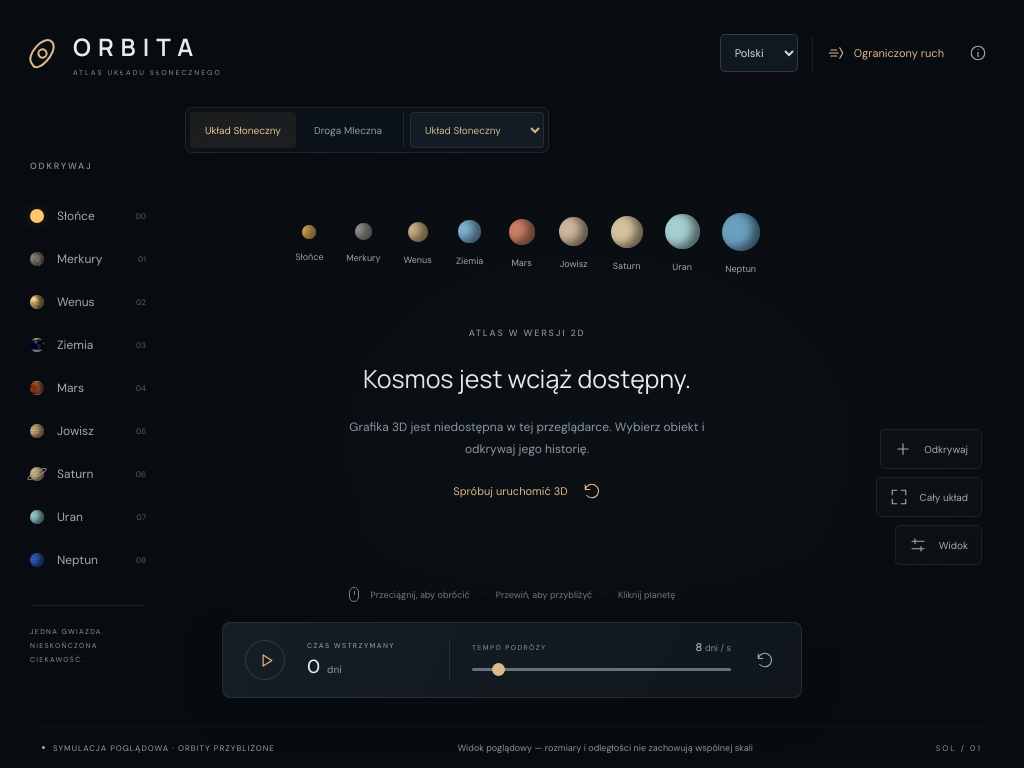
accessible 2D atlas › starts with reduced motion paused but permits an explicit resume and resets consistently
The width and height of the screenshot is (1024, 768).
Click the button named "Wznów symulację" at (265, 660), box [245,640,285,680]
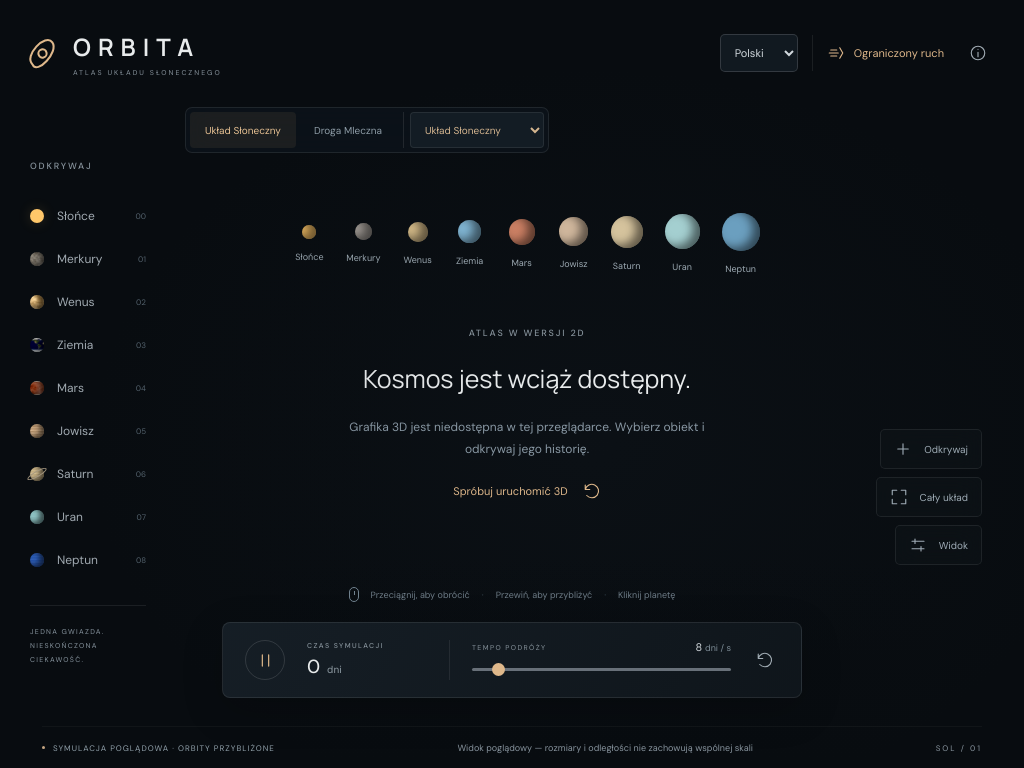
Set the slider named "Szybkość symulacji" to "31" at (555, 669), box [472,658,731,680]
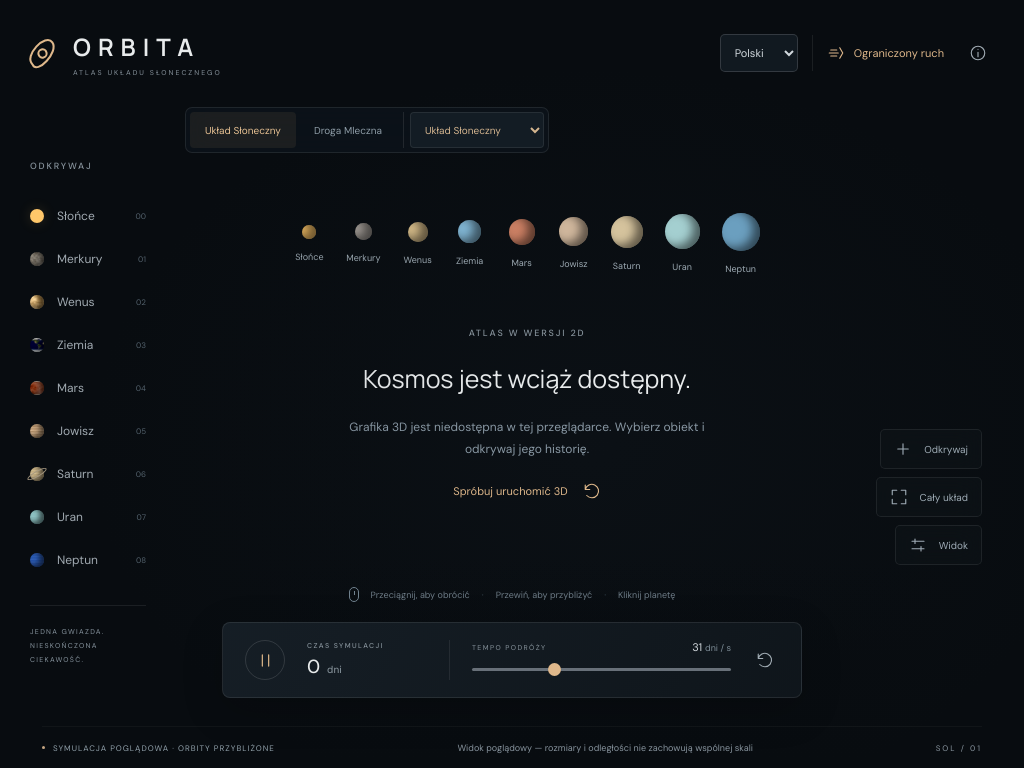
Click the button named "Resetuj symulację" at (765, 660), box [745,640,785,680]
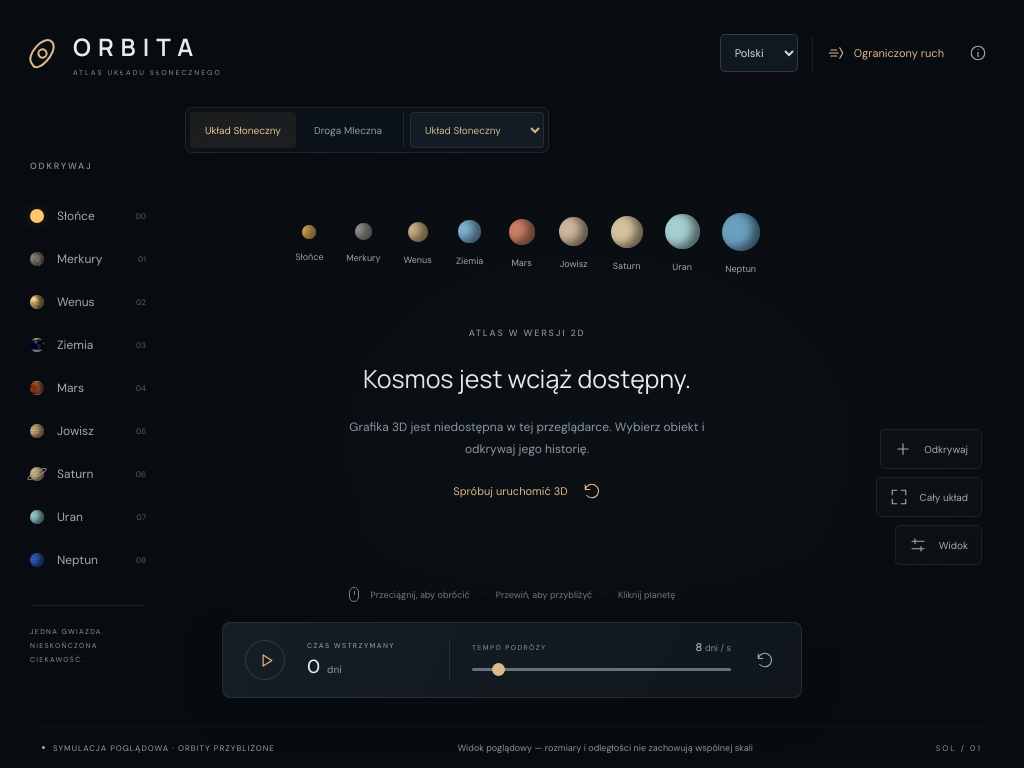
Expected: the button named "Wznów symulację" is enabled, [245,640,285,680]
Expected: the slider holds "8", [472,658,731,680]
